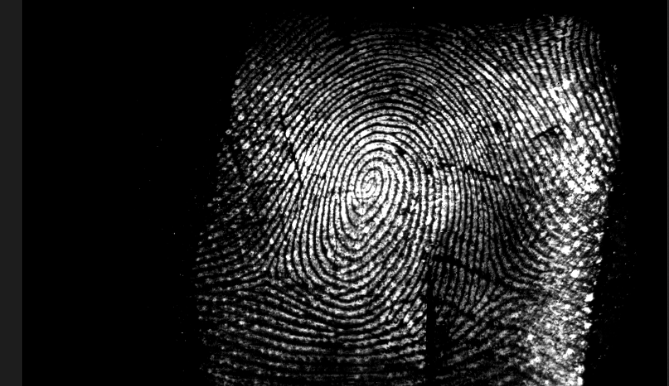deltas: (473, 245, 531, 312), (242, 251, 290, 303)
nucleo: (346, 157, 388, 209)
